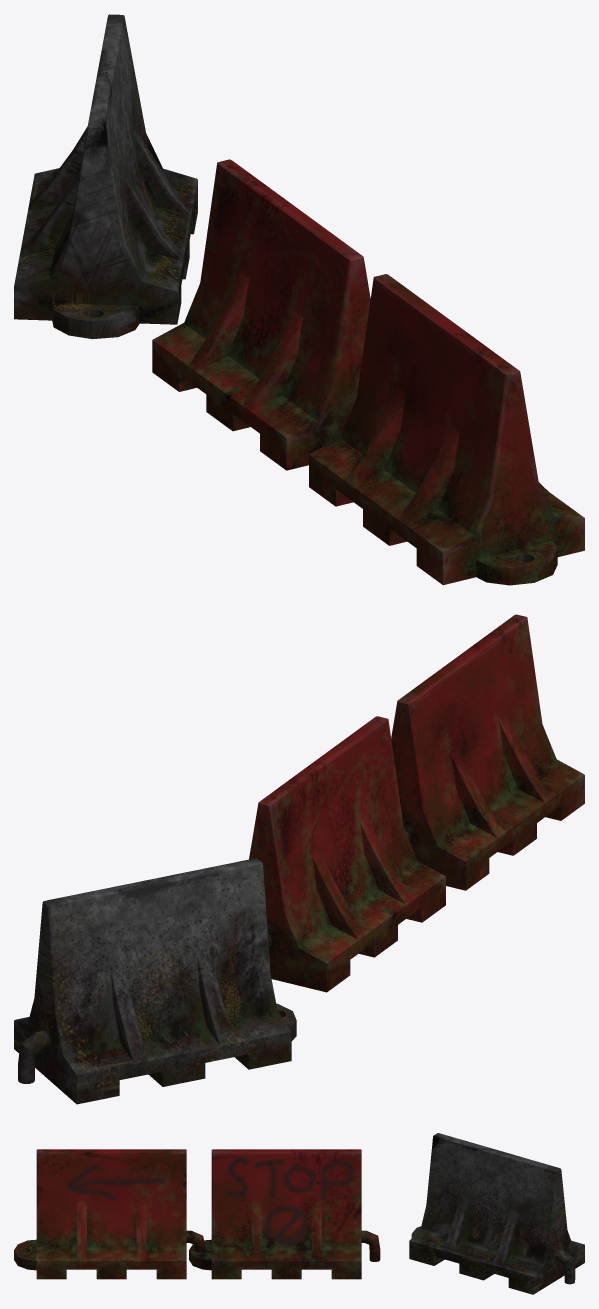
File: barrier0.obj
3 views of the same model, one above another, from view 1: azimuth 30°, elevation 25°; view 2: azimuth 150°, elevation 25°; view 3: azimuth 270°, elevation 25° (orthographic). The views are drawn at different scales.
Parts seen in each view (by area): view 1: Cube.000; view 2: Cube.000; view 3: Cube.000.
Part boxes in pixels (x1=…): Cube.000: x1=14, y1=14, x2=584, y2=585; Cube.000: x1=14, y1=614, x2=584, y2=1104; Cube.000: x1=14, y1=1133, x2=584, y2=1294.
Bounding box in the file's own units: 2.14 × 1.61 × 7.61.
1 material, 1 textured.
